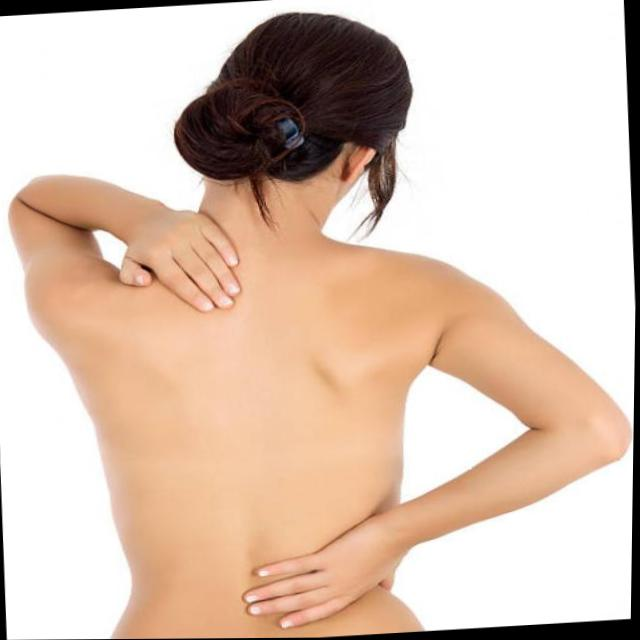no helmet: (167, 9, 416, 237)
